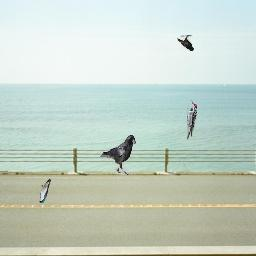Crow: (100, 135, 136, 175), (177, 35, 194, 51)
Swallow: (39, 178, 51, 203)
Woodpecker: (187, 100, 197, 140)
